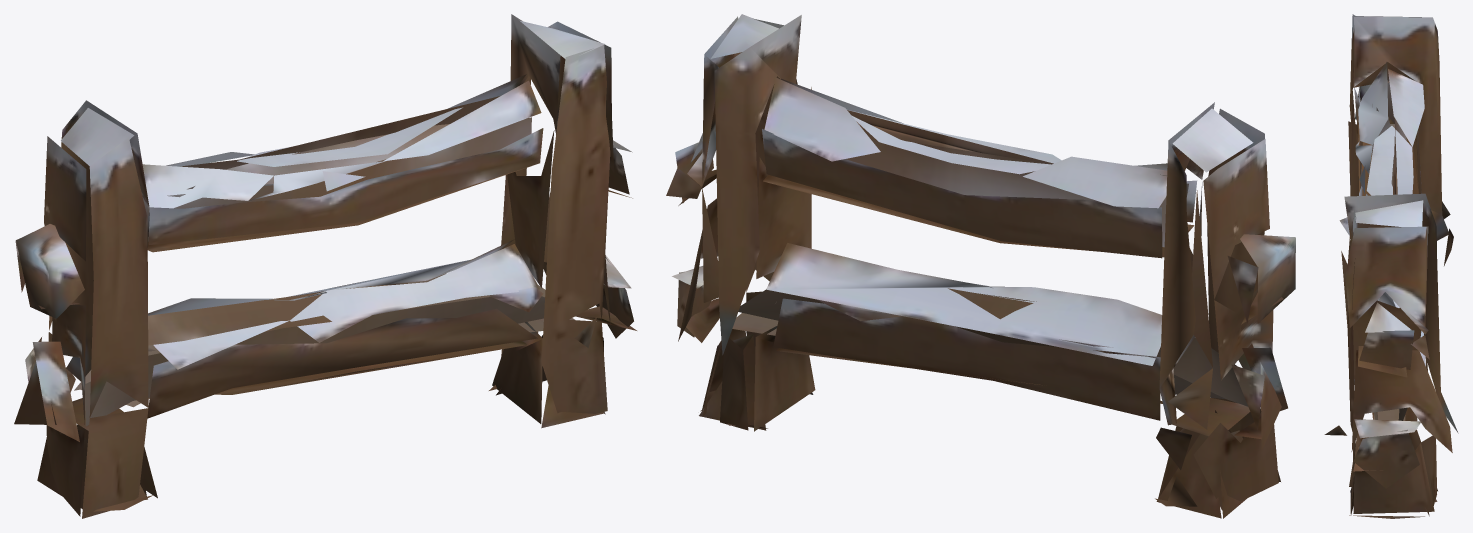
The model's file is fence_gen_c.glb.
3 views of the same model, side by side, from view 1: azimuth 30°, elevation 25°; view 2: azimuth 150°, elevation 25°; view 3: azimuth 270°, elevation 25° (orthographic). The views are drawn at different scales.
Parts seen in each view (by area): view 1: fence_gen.002; view 2: fence_gen.002; view 3: fence_gen.002.
Boxes of the visible parts, box(x1,y1,x2,y2) form: fence_gen.002: box(14, 14, 636, 518); fence_gen.002: box(666, 14, 1295, 518); fence_gen.002: box(1324, 14, 1458, 518).
Bounding box in the file's own units: 2.16 × 1.38 × 0.5287.
1 material, 1 textured.
